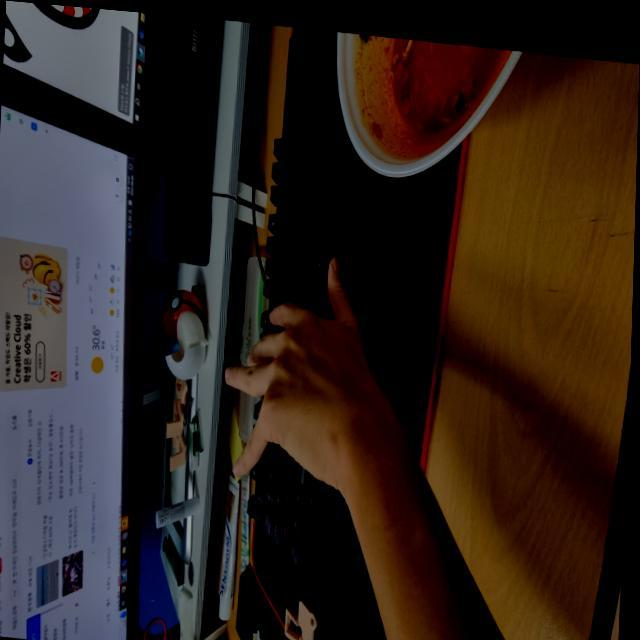keyboard-with-hands: (245, 26, 364, 562)
